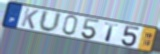0: (61, 15, 79, 37)
5: (80, 17, 101, 41), (120, 24, 141, 47)
K: (20, 7, 40, 30)
T: (104, 22, 120, 43)
U: (38, 9, 63, 34)
